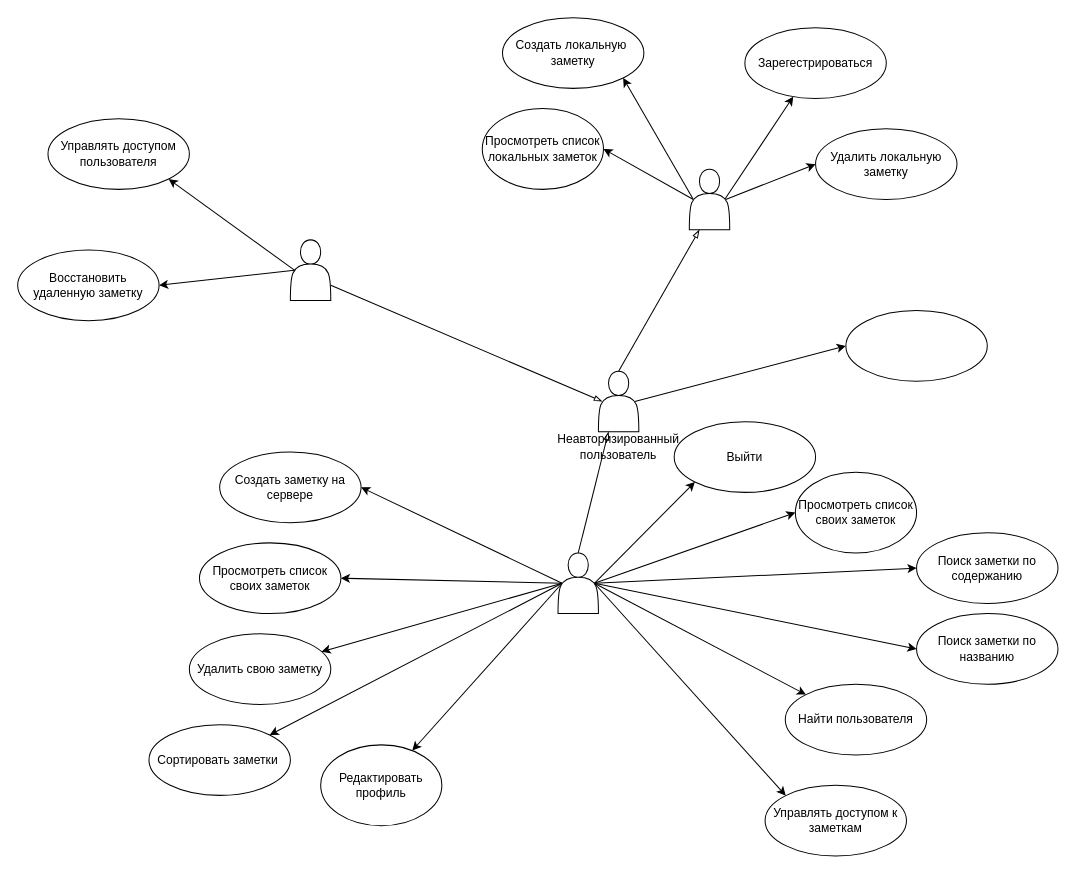
The diagram is 1076 pixels wide and 874 high, and some of its shapes have lost their labels. The centre of each missing label's shape, as x and y in pixels:
"Авторизированный пользователь" goes at (x=577, y=583).
"Администратор" goes at (x=310, y=269).
"Войти" goes at (x=916, y=345).
"Незарегистрированный пользователь" goes at (x=709, y=199).
